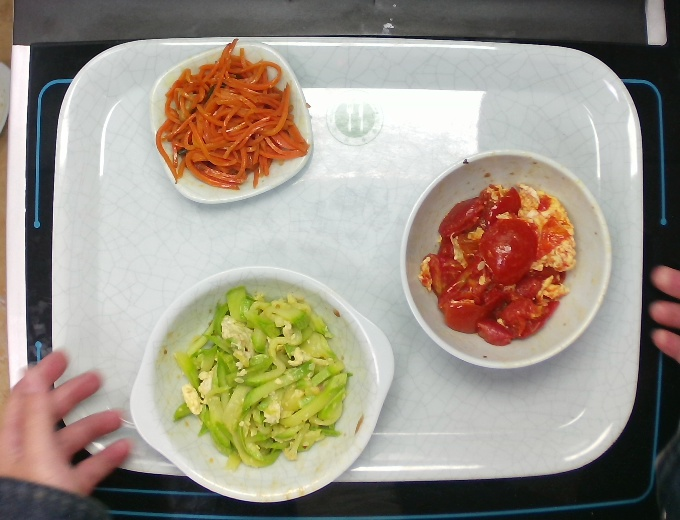JYsf-Fan_Wan: (399, 144, 613, 370)
JYsf-Shuang_Er_Wan: (125, 260, 399, 511)
JYsf-Si_Fang_Die: (142, 37, 319, 211)
